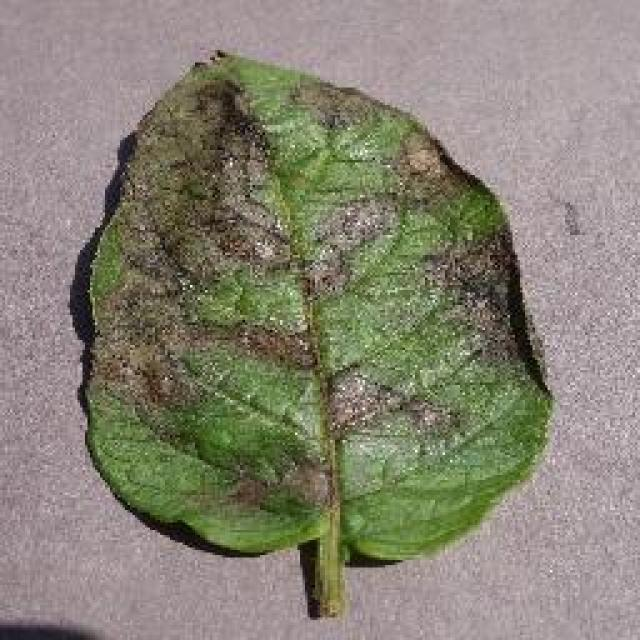late_blight: (72, 45, 558, 617)
